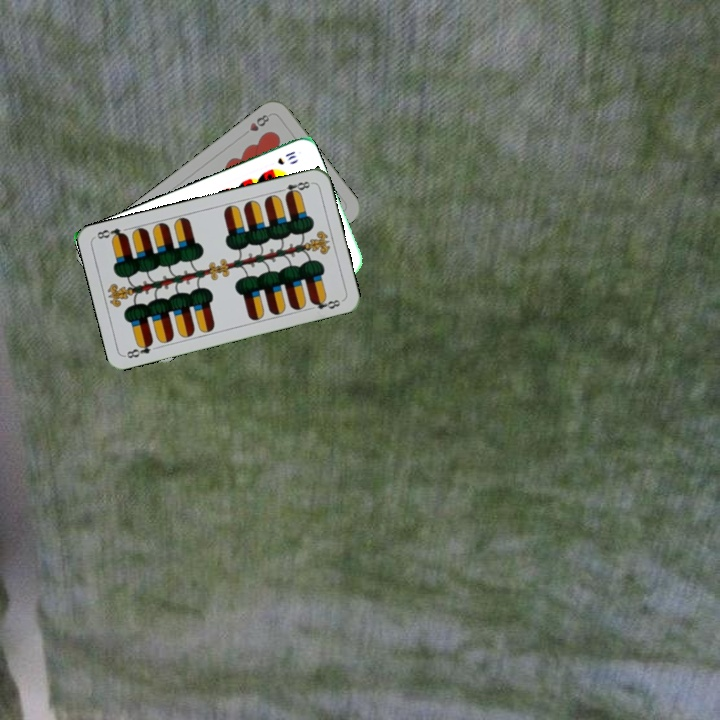E8: (274, 177, 315, 199), (122, 337, 156, 361)
H8: (245, 110, 273, 134)
S10: (273, 147, 299, 167)
